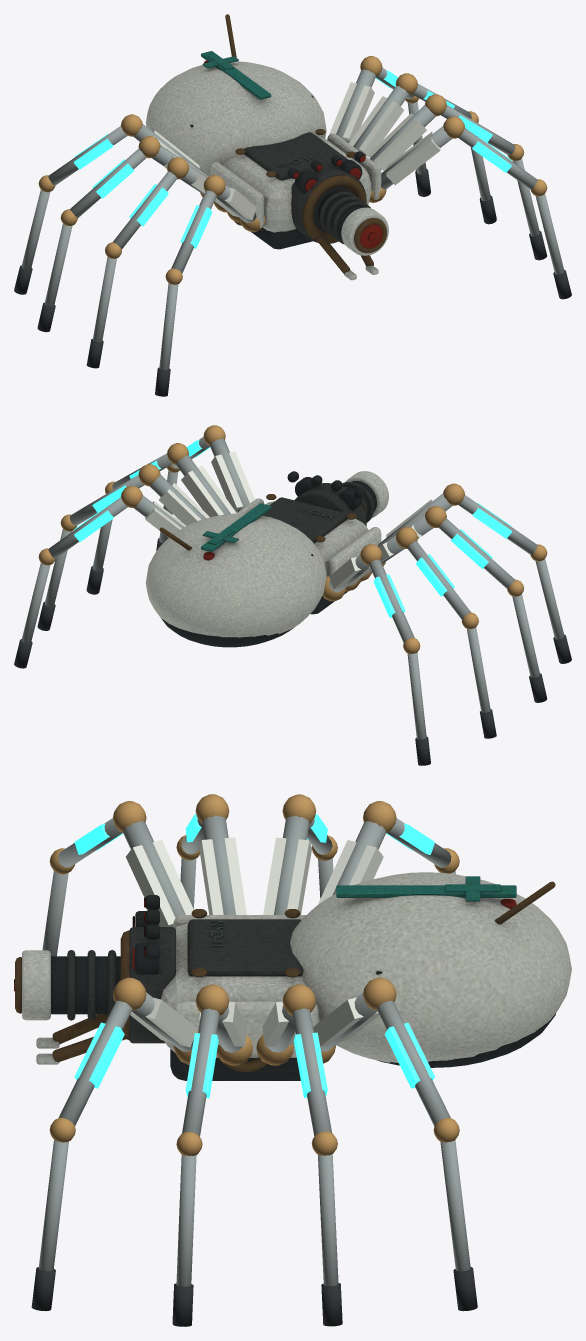
File: crawler.glb
The picture shows the model from 3 angles, top to bottom: view 1: azimuth 30°, elevation 25°; view 2: azimuth 150°, elevation 25°; view 3: azimuth 270°, elevation 25°; orthographic projection. The views are drawn at different scales.
Parts seen in each view (by area): view 1: attack-membrane, crawler-leg-R-0, crawler-leg-L-0, crawler-leg-R-1, crawler-leg-L-1, crawler-leg-L-2, crawler-leg-L-3, crawler-leg-R-2, crawler-leg-R-3; view 2: attack-membrane, crawler-leg-L-3, crawler-leg-R-3, crawler-leg-R-2, crawler-leg-L-2, crawler-leg-L-0, crawler-leg-L-1, crawler-leg-R-1, crawler-leg-R-0; view 3: attack-membrane, crawler-leg-R-0, crawler-leg-R-3, crawler-leg-R-2, crawler-leg-R-1, crawler-leg-L-0, crawler-leg-L-1, crawler-leg-L-2, crawler-leg-L-3.
Part boxes in pixels (x1,y1,x2,y2): attack-membrane: [145, 14, 388, 280]; crawler-leg-R-0: [369, 116, 571, 299]; crawler-leg-L-0: [155, 175, 265, 396]; crawler-leg-R-1: [368, 94, 546, 260]; crawler-leg-L-1: [86, 157, 240, 368]; crawler-leg-L-2: [37, 136, 226, 332]; crawler-leg-L-3: [14, 114, 208, 294]; crawler-leg-R-2: [349, 73, 496, 224]; crawler-leg-R-3: [329, 56, 430, 196]; attack-membrane: [145, 471, 388, 647]; crawler-leg-L-3: [322, 544, 430, 765]; crawler-leg-R-3: [14, 485, 186, 668]; crawler-leg-R-2: [37, 464, 209, 630]; crawler-leg-L-2: [345, 527, 496, 738]; crawler-leg-L-0: [377, 483, 571, 663]; crawler-leg-L-1: [359, 506, 547, 702]; crawler-leg-R-1: [86, 443, 236, 594]; crawler-leg-R-0: [156, 425, 254, 550]; attack-membrane: [14, 872, 571, 1080]; crawler-leg-R-0: [31, 977, 198, 1310]; crawler-leg-R-3: [313, 977, 477, 1311]; crawler-leg-R-2: [256, 984, 342, 1326]; crawler-leg-R-1: [172, 984, 252, 1326]; crawler-leg-L-0: [42, 801, 193, 956]; crawler-leg-L-1: [176, 794, 246, 914]; crawler-leg-L-2: [263, 794, 337, 914]; crawler-leg-L-3: [318, 801, 459, 904].
Bounding box in the file's own units: 2.75 × 1.15 × 1.92.
6 materials, 1 textured.
